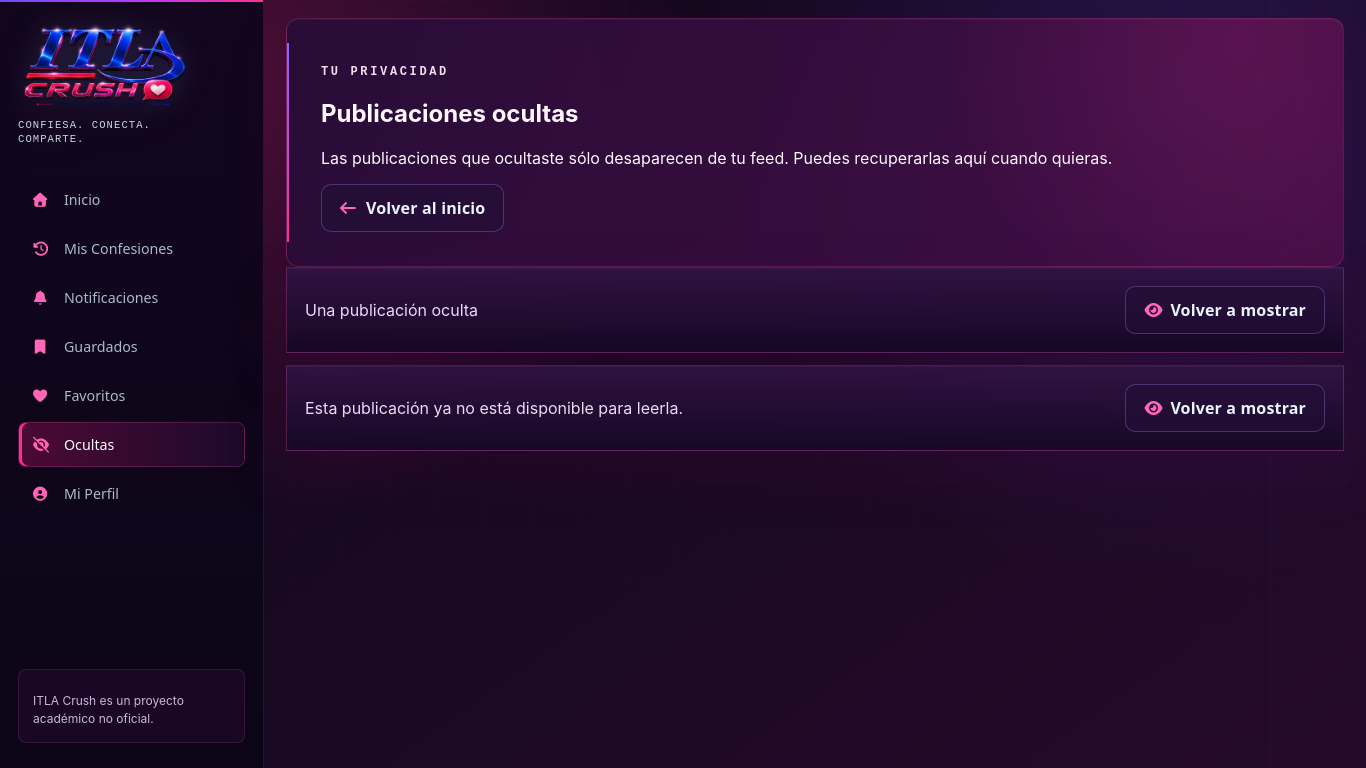
Test: fase final: feed y publicaciones ocultas › permite recuperar una publicación oculta sin revelar datos privados
Check: the text "Una publicación oculta" is shown, box 305,300 -> 478,320
Check: the text "Esta publicación ya no está disponible para leerla." is shown, box 305,398 -> 683,418
Click the button with aria-label "Volver a mostrar publicación c7": (1225, 310) 1125,286 -> 1325,334
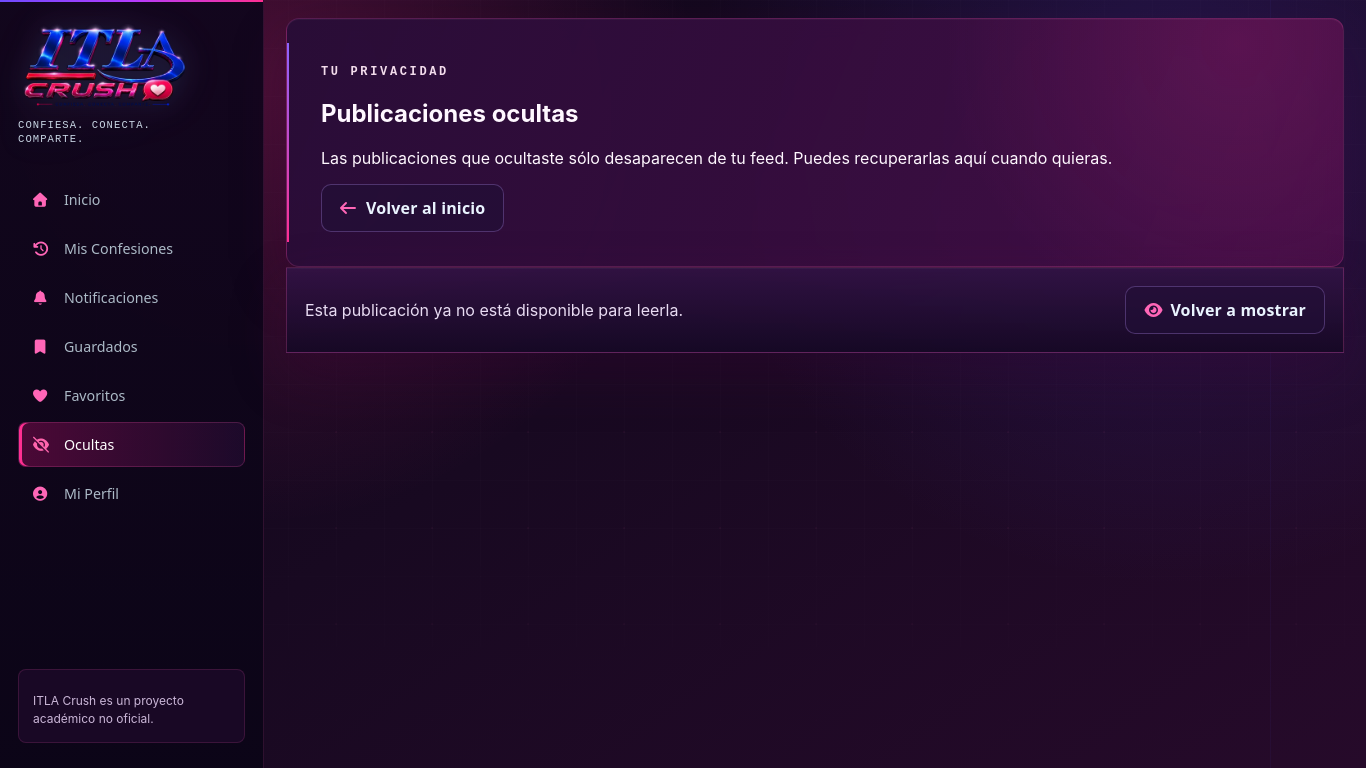
Check: the text "Una publicación oculta" is gone
